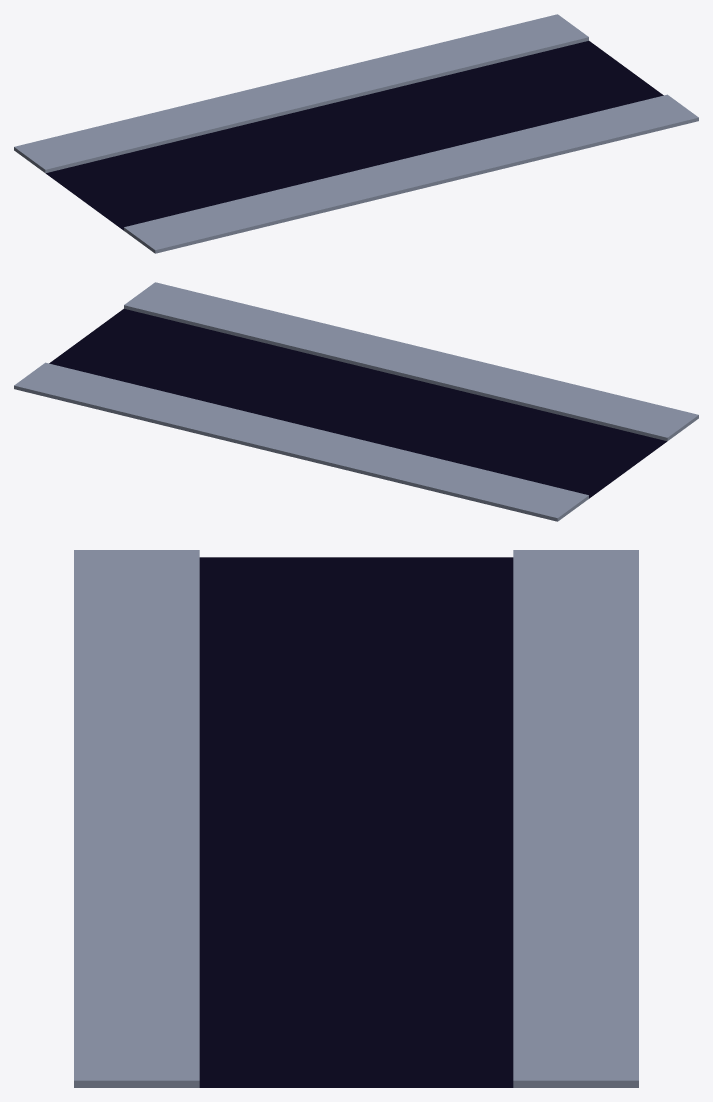
File: Straight.fbx
3 renders of one model, top to bottom at view 1: azimuth 30°, elevation 25°; view 2: azimuth 150°, elevation 25°; view 3: azimuth 270°, elevation 25°, orthographic. The views are drawn at different scales.
Parts seen in each view (by area): view 1: road, Straight; view 2: road, Straight; view 3: road, Straight.
Part boxes in pixels (left/top/right/bottom): road: left=46, top=41, right=663, bottom=230; Straight: left=14, top=14, right=698, bottom=253; road: left=49, top=309, right=666, bottom=498; Straight: left=14, top=282, right=698, bottom=521; road: left=199, top=557, right=513, bottom=1087; Straight: left=74, top=550, right=638, bottom=1087.
Bounding box in the file's own units: 4000 × 24.71 × 1800.
